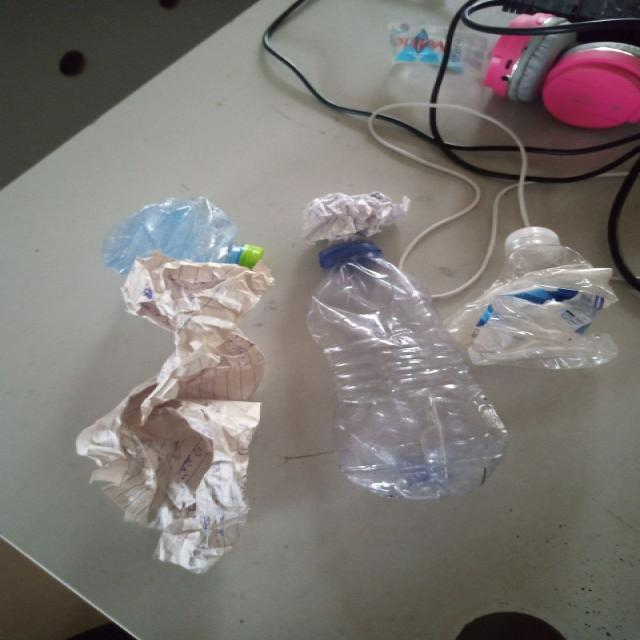Paper: (76, 250, 275, 575), (303, 192, 407, 243)
Plastic: (305, 241, 509, 504), (446, 227, 623, 374), (101, 196, 264, 280)
